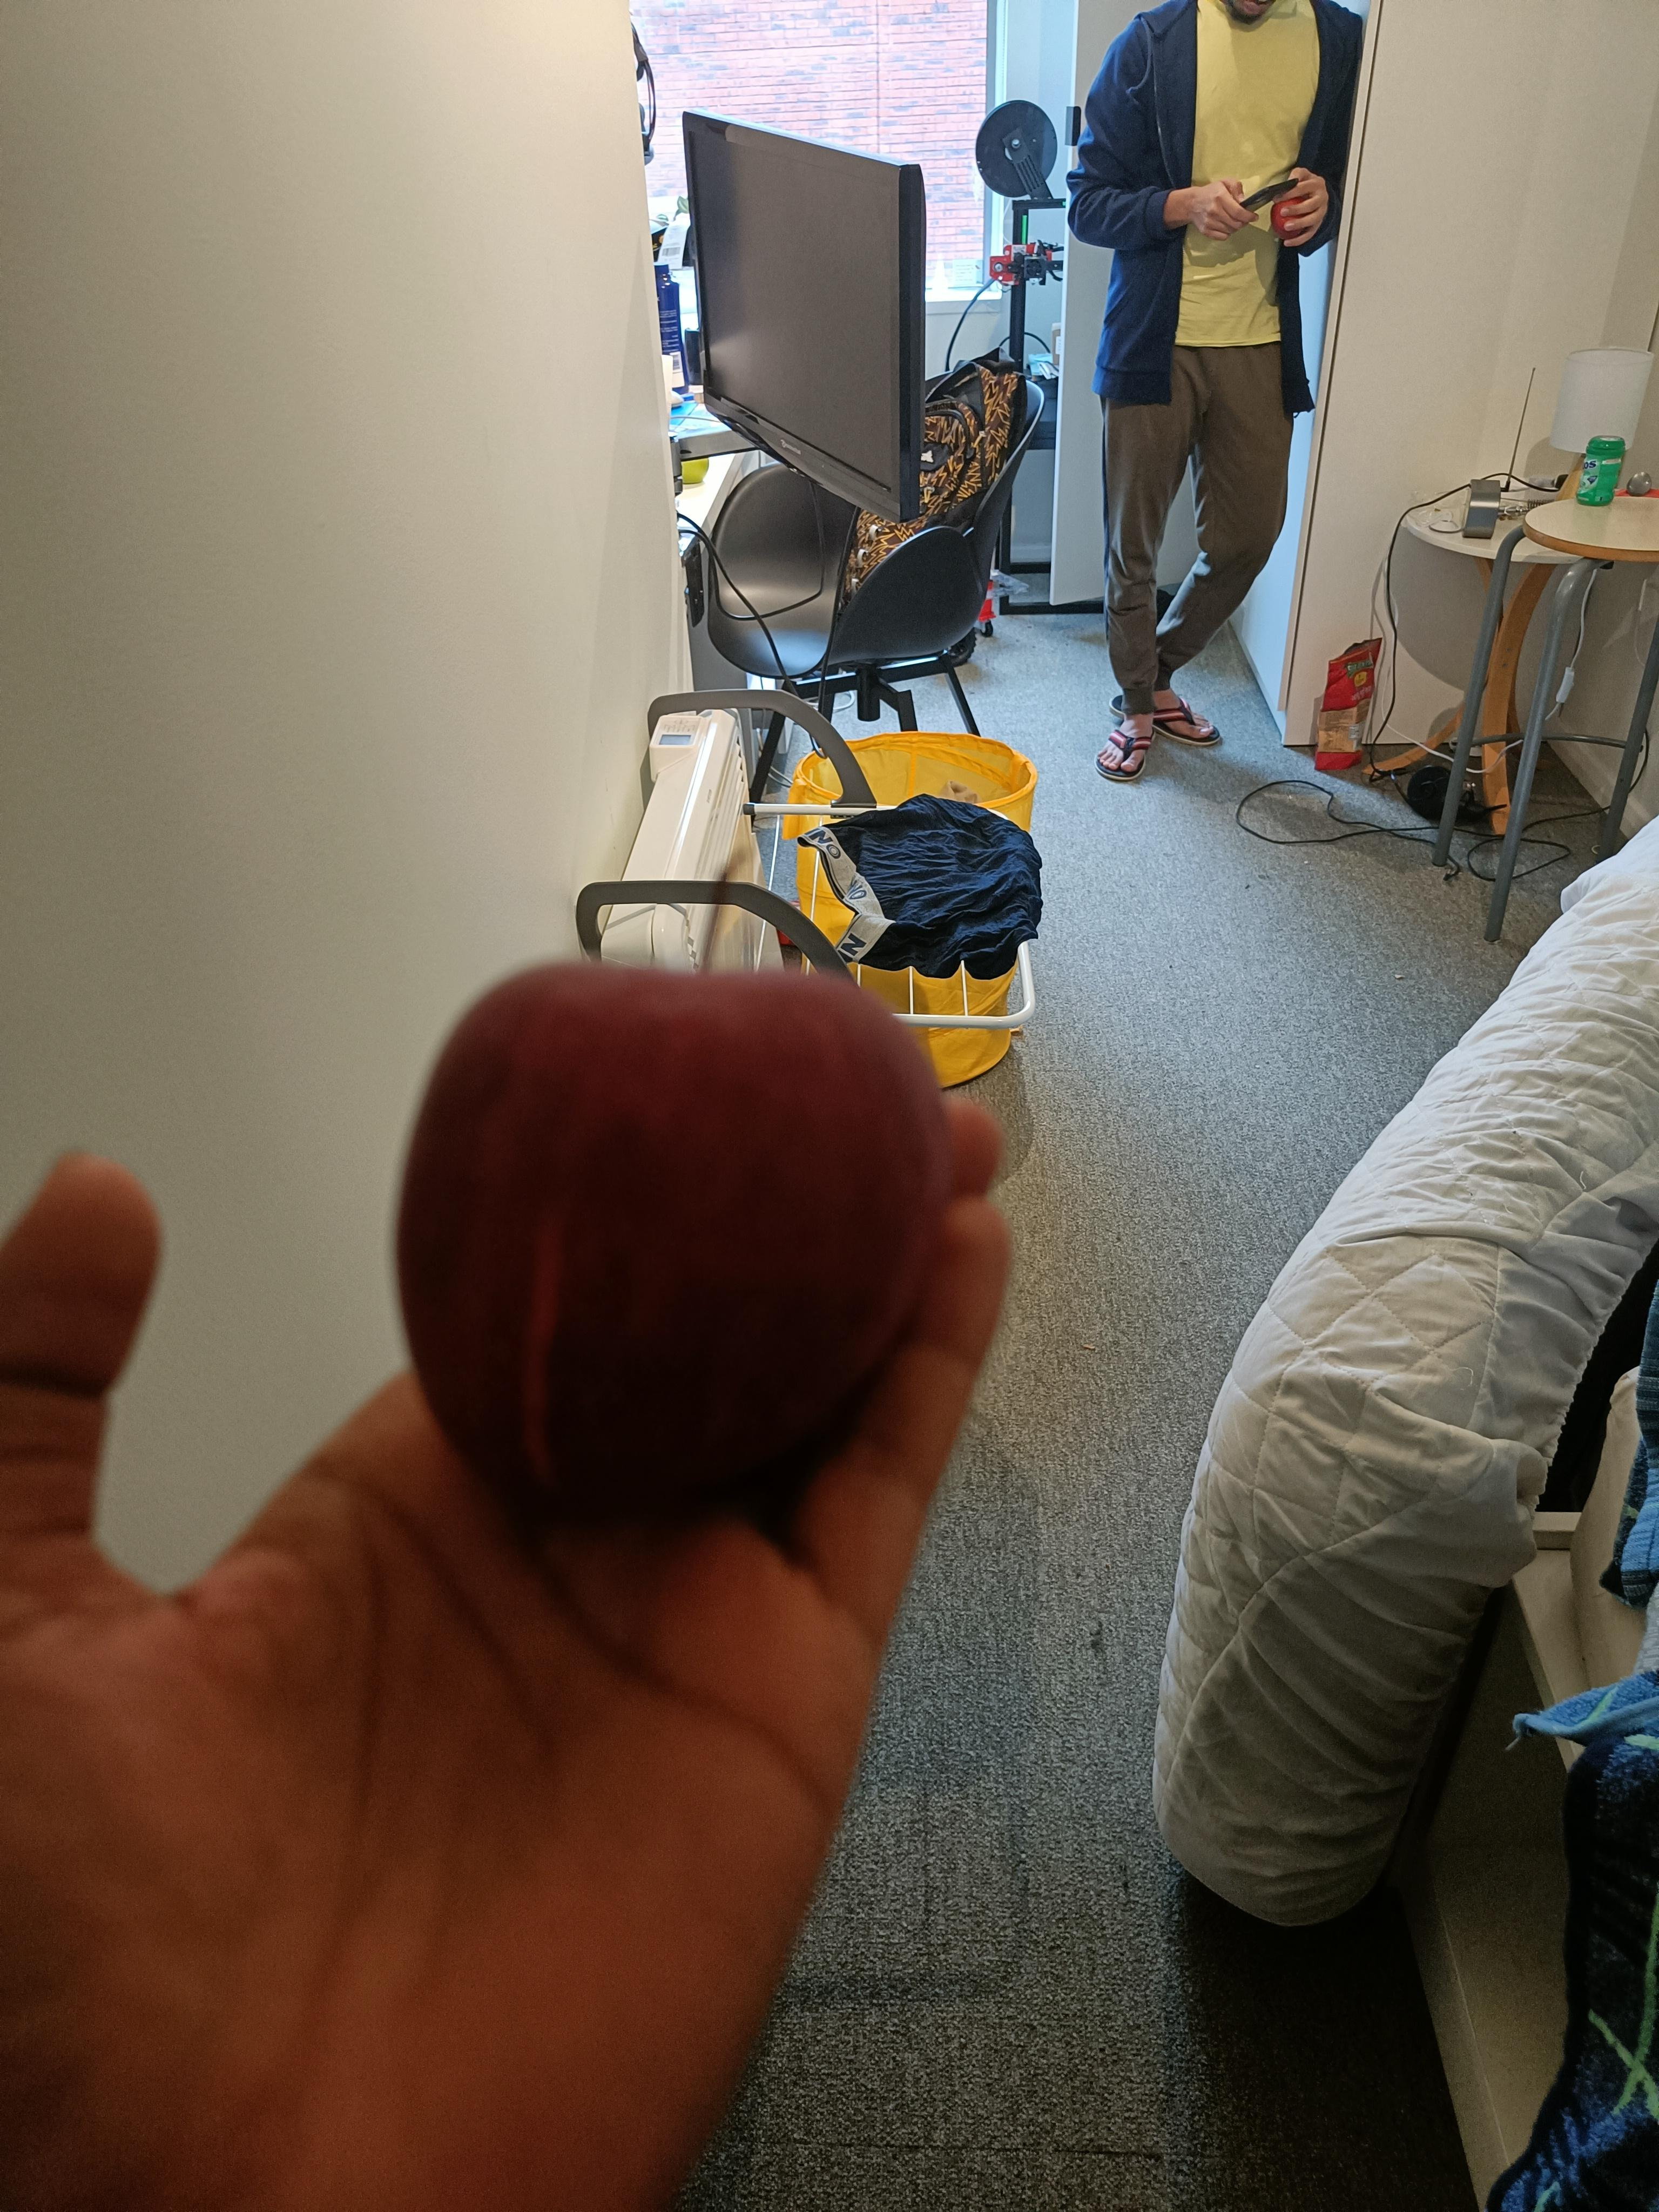Apple: (392, 941, 962, 1541)
